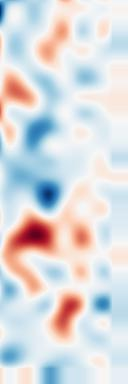filament: (5, 203, 66, 288)
